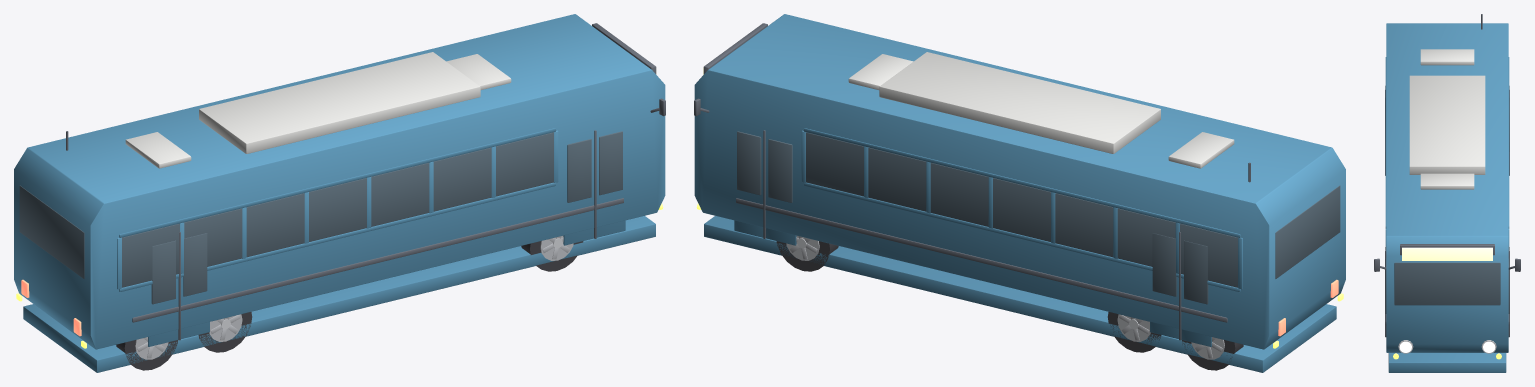
The model's file is th40_bus.glb.
The picture shows the model from 3 angles, left to right: view 1: azimuth 30°, elevation 25°; view 2: azimuth 150°, elevation 25°; view 3: azimuth 270°, elevation 25°; orthographic projection. The views are drawn at different scales.
Parts seen in each view (by area): view 1: Buskasten, Cube.001, Cube.055, Cube, Cube.044, Cube.131, Cube.010, Cube.011, Cube.024, Cube.036, Cube.034, Cube.026 (+5 smaller); view 2: Buskasten, Cube.012, Cube.055, Cube, Cube.044, Cube.131, Cube.021, Cube.022, Cube.029, Cube.031, Cube.041, Cube.039 (+5 smaller); view 3: Buskasten, Cube.055, Cube.043, Cube, Cube.045, Cube.056, Cube.058, Cube.046, Cube.010, Cube.021.
Part boxes in pixels (x1,y1,x2,y2): Buskasten: (14, 14, 665, 349); Cube.001: (122, 132, 553, 287); Cube.055: (199, 52, 480, 153); Cube: (23, 216, 655, 372); Cube.044: (19, 185, 84, 278); Cube.131: (132, 198, 623, 322); Cube.010: (119, 128, 555, 237); Cube.011: (119, 182, 555, 291); Cube.024: (567, 139, 591, 202); Cube.036: (183, 233, 207, 296); Cube.034: (151, 240, 175, 304); Cube.026: (599, 131, 622, 195); Buskasten: (694, 14, 1345, 349); Cube.012: (806, 132, 1237, 287); Cube.055: (879, 52, 1160, 153); Cube: (704, 216, 1336, 372); Cube.044: (1275, 185, 1340, 278); Cube.131: (736, 198, 1227, 322); Cube.021: (804, 128, 1240, 237); Cube.022: (804, 182, 1240, 291); Cube.029: (768, 139, 792, 202); Cube.031: (737, 131, 761, 195); Cube.041: (1152, 233, 1176, 296); Cube.039: (1184, 240, 1208, 304); Buskasten: (1386, 23, 1508, 352); Cube.055: (1409, 75, 1485, 174); Cube.043: (1394, 262, 1500, 305); Cube: (1388, 353, 1506, 372); Cube.045: (1402, 247, 1492, 260); Cube.056: (1420, 49, 1474, 65); Cube.058: (1420, 173, 1474, 189); Cube.046: (1400, 244, 1494, 255); Cube.010: (1385, 57, 1386, 228); Cube.021: (1508, 57, 1509, 228).
Size of the model in its own units: 11.07 by 3.69 by 3.05.
